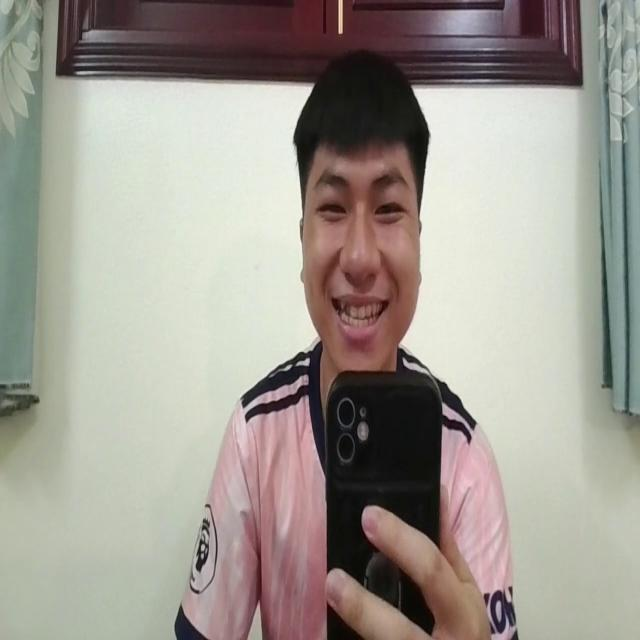phone: (321, 366, 442, 640)
student: (168, 48, 512, 640)
